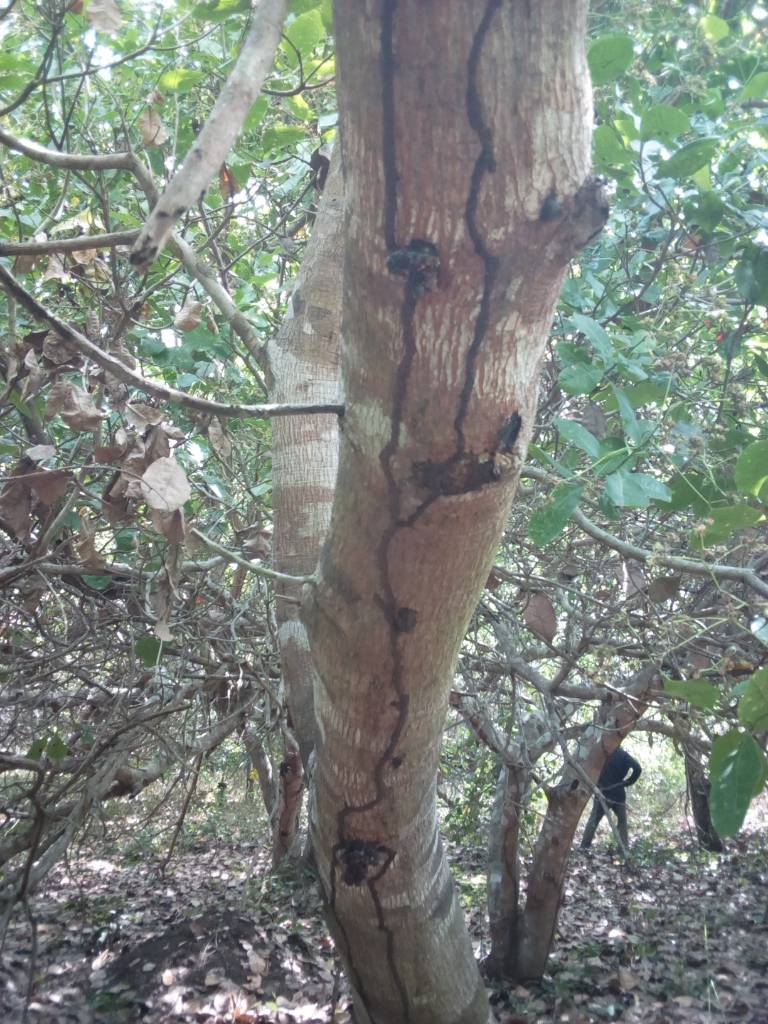Termites: (371, 7, 491, 472), (333, 800, 422, 1021), (379, 482, 419, 749)
